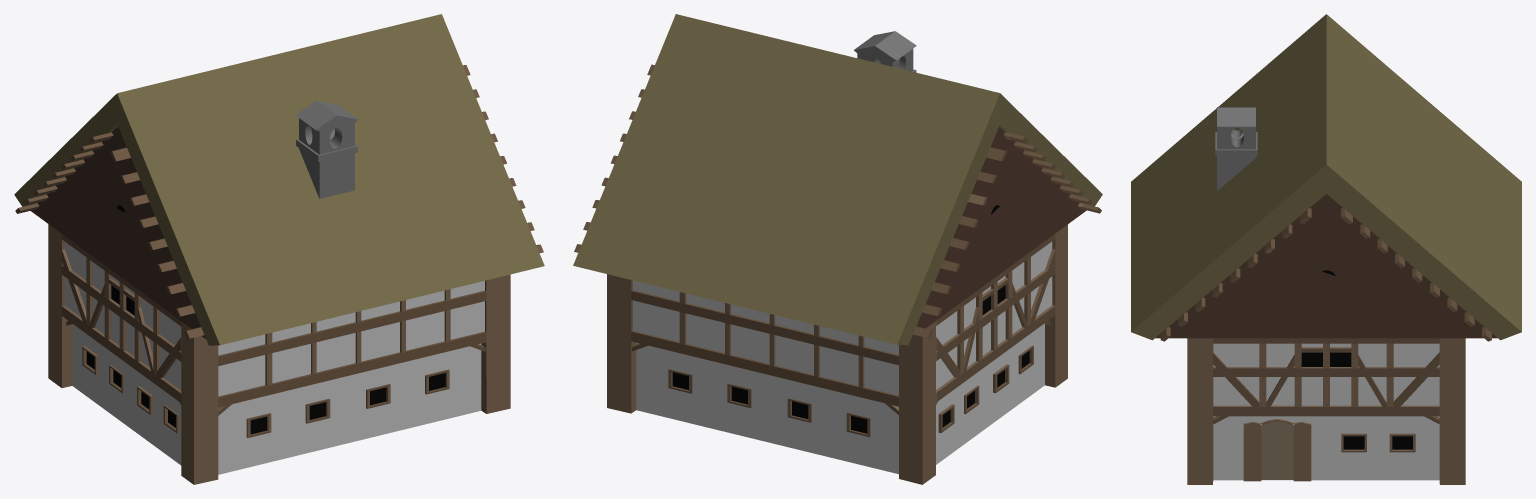
The model's file is HouseColorsFinal.fbx.
3 renders of one model, left to right at view 1: azimuth 30°, elevation 25°; view 2: azimuth 150°, elevation 25°; view 3: azimuth 270°, elevation 25°, orthographic. The views are drawn at different scales.
Visible parts, largest first — view 1: House; view 2: House; view 3: House.
Part boxes in pixels (bbox=[...]): House: bbox=[14, 14, 544, 484]; House: bbox=[573, 14, 1102, 484]; House: bbox=[1131, 14, 1521, 484].
Bounding box in the file's own units: 2400 × 2200 × 2416.
